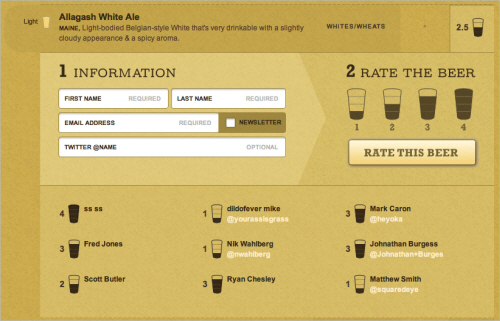_form_: (190, 20, 488, 235), (1, 1, 298, 215)
button: (348, 139, 476, 166)
checkbox: (225, 117, 281, 128)
field: (58, 137, 285, 157), (58, 113, 219, 133), (171, 88, 285, 109), (58, 88, 169, 109)
